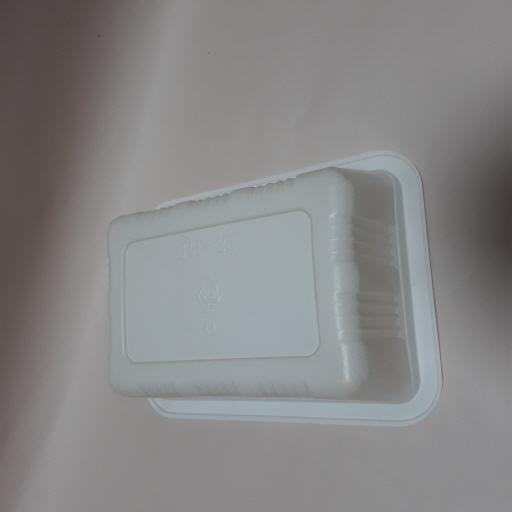Plastic_4: (104, 155, 444, 424)
